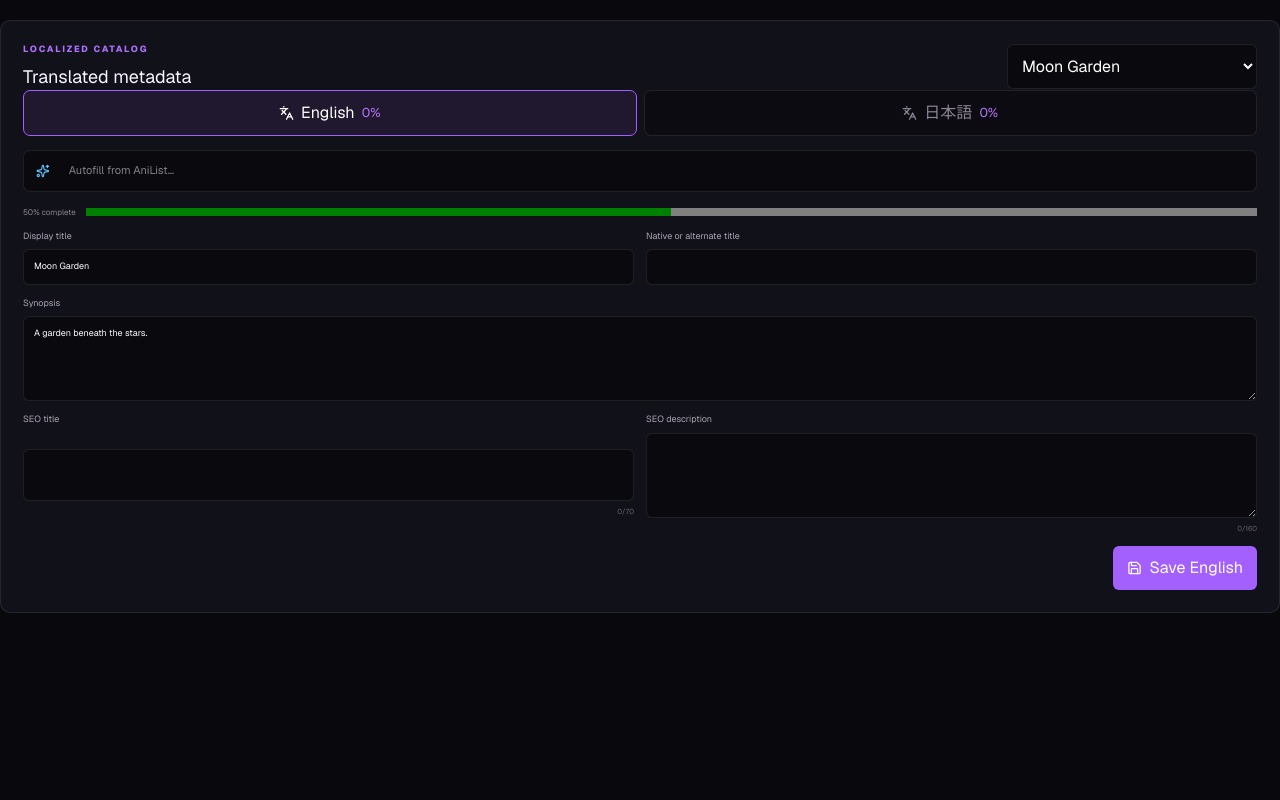
Test: creator translation manager › loads title metadata and switches between English and Japanese
Expected: the dropdown named "Translation title" shows "Moon Garden", [1007,44,1257,89]
Expected: the field labelled "Display title" holds "Moon Garden", [23,249,634,284]
What coordinates should you click on to do the following:
click the tab "日本語 0%"
I would click on:
 (950, 112)
Its box is [644,90,1257,136].
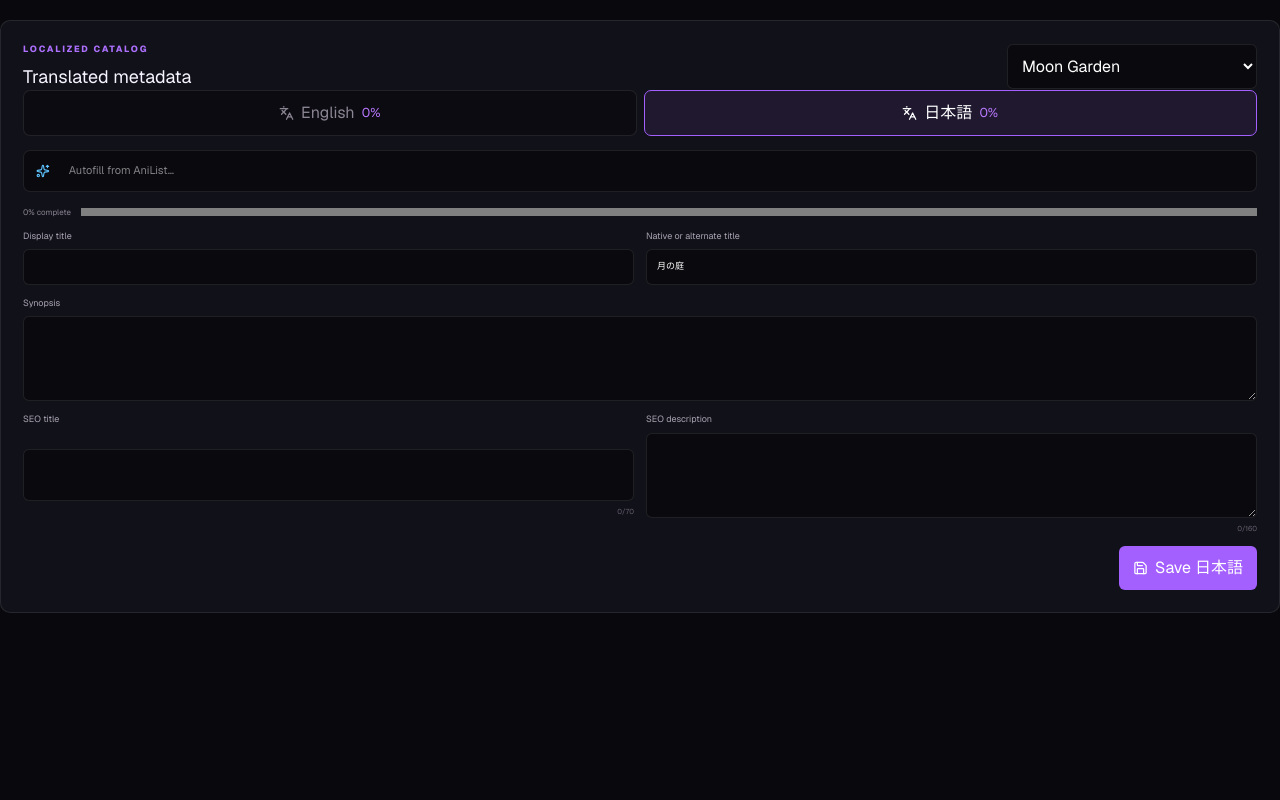
Expected: the button "Save 日本語" is enabled, [1119,546,1257,590]
Now the field labelled "Native or alternate title" holds "月の庭", box [646,249,1257,284]
